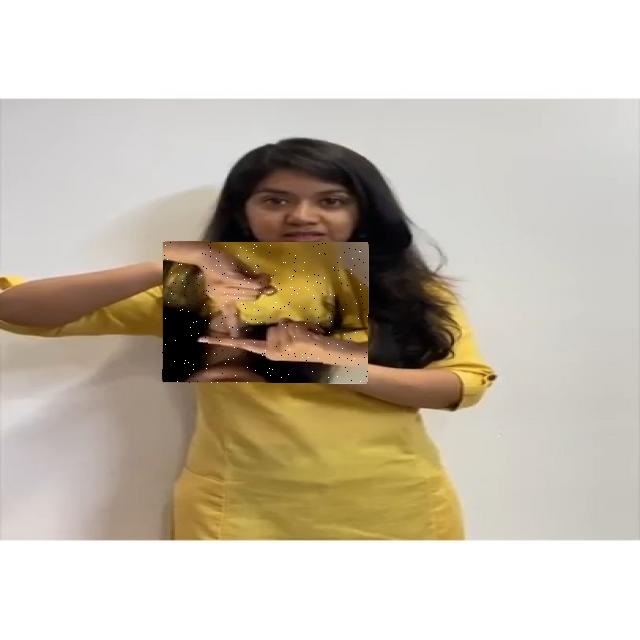T: (162, 242, 368, 383)
